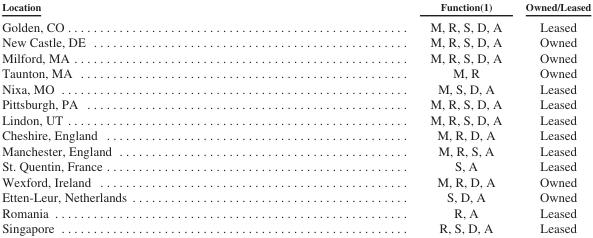table: (1, 0, 590, 235)
table column: (1, 0, 277, 235), (277, 0, 513, 235), (513, 0, 590, 235)
table column header: (1, 0, 590, 15)
table row: (1, 15, 590, 34), (1, 49, 590, 65), (1, 80, 590, 96), (1, 111, 590, 127), (1, 142, 590, 158), (1, 173, 590, 189), (1, 204, 590, 220), (1, 0, 590, 15), (1, 34, 590, 49), (1, 65, 590, 80), (1, 96, 590, 111), (1, 127, 590, 142), (1, 158, 590, 173), (1, 189, 590, 204), (1, 220, 590, 235)
